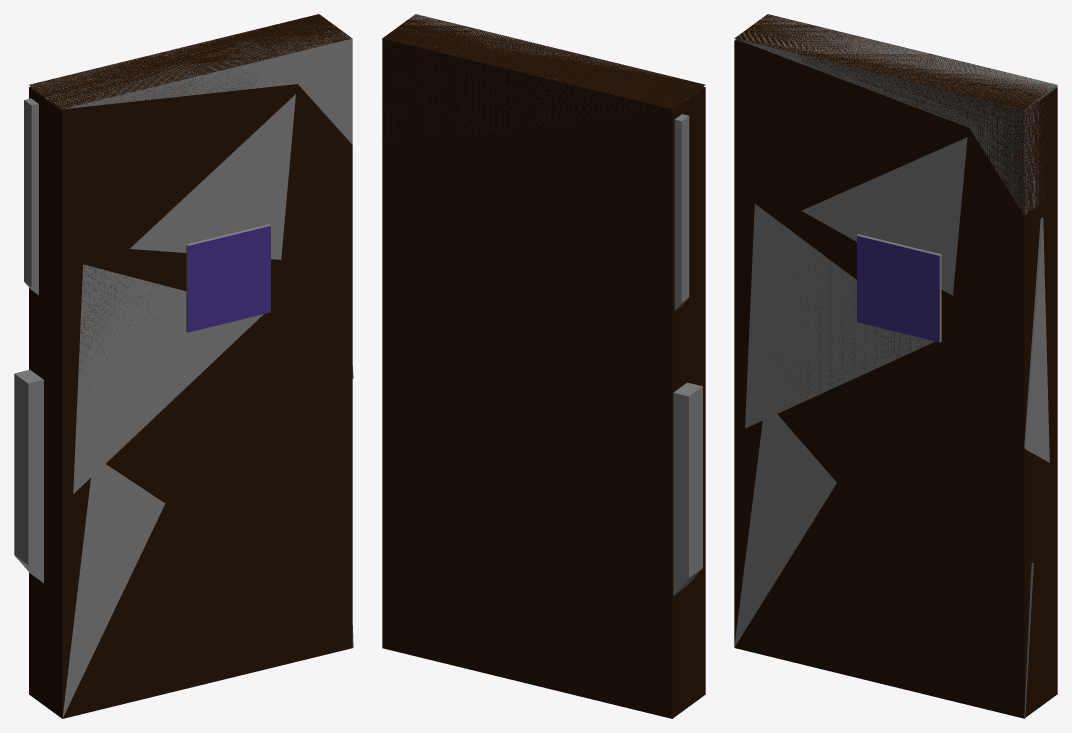
Rendered from newdoor2_r.glb.
The picture shows the model from 3 angles, left to right: view 1: azimuth 30°, elevation 25°; view 2: azimuth 150°, elevation 25°; view 3: azimuth 330°, elevation 25°; orthographic projection.
Visible parts, largest first — view 1: right 0, hulka 0, hulk 0, debrisb0, hulk 15, debris0, debrisc0, logo 15, connect_a 15, connect_b 15; view 2: right 0, hulk 0, hulka 0, connect_a 15, connect_b 15, hulk 15; view 3: right 0, hulk 0, debrisb0, hulka 0, hulk 15, debris0, debrisc0, logo 15, hulka 15.
Part boxes in pixels (x1,y1,x2,y2): right 0: (29, 86, 352, 718); hulka 0: (63, 487, 352, 718); hulk 0: (29, 14, 352, 397); debrisb0: (73, 264, 263, 493); hulk 15: (30, 20, 352, 144); debris0: (46, 94, 295, 259); debrisc0: (62, 456, 165, 717); logo 15: (186, 224, 270, 332); connect_a 15: (14, 369, 43, 582); connect_b 15: (24, 98, 38, 295); right 0: (382, 86, 705, 718); hulk 0: (382, 14, 705, 398); hulka 0: (382, 488, 671, 718); connect_a 15: (673, 382, 702, 595); connect_b 15: (674, 114, 689, 310); hulk 15: (382, 14, 681, 143); right 0: (734, 39, 1057, 716); hulk 0: (734, 14, 1056, 469); debrisb0: (745, 204, 935, 428); hulka 0: (735, 579, 1057, 718); hulk 15: (735, 14, 1057, 214); debris0: (801, 137, 967, 295); debrisc0: (734, 400, 836, 647); logo 15: (857, 234, 941, 342); hulka 15: (1024, 217, 1049, 462).
Size of the model in its own units: 2.64 by 5 by 0.5205.
